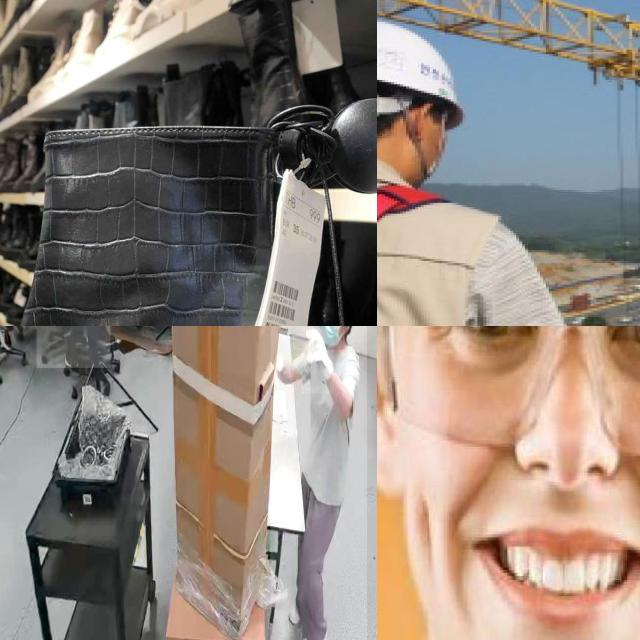No_Ear-Protection: (377, 326, 401, 499)
Sandals: (0, 80, 314, 326)
face_mask: (314, 326, 343, 350)
face_nomask: (401, 393, 640, 640)
glasses: (391, 326, 640, 455)
hand_glove: (302, 328, 334, 393)
person: (270, 326, 367, 640)
shoes: (286, 584, 308, 626), (294, 623, 330, 640), (0, 326, 16, 353)
